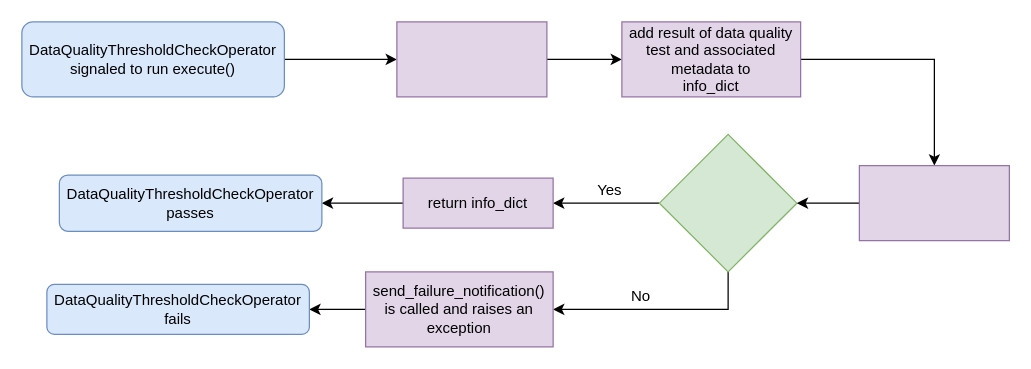
Some shapes in this 1031 by 369 pixel diagram are drawn without their labels. Here are the shapes that lost their labels. From the top down, the centre of each, then its label:
[471,59]: Data quality result calculated using get_sql_value()
[727,202]: is result between min and max threshold?
[933,202]: push() info_dict to external datastore
